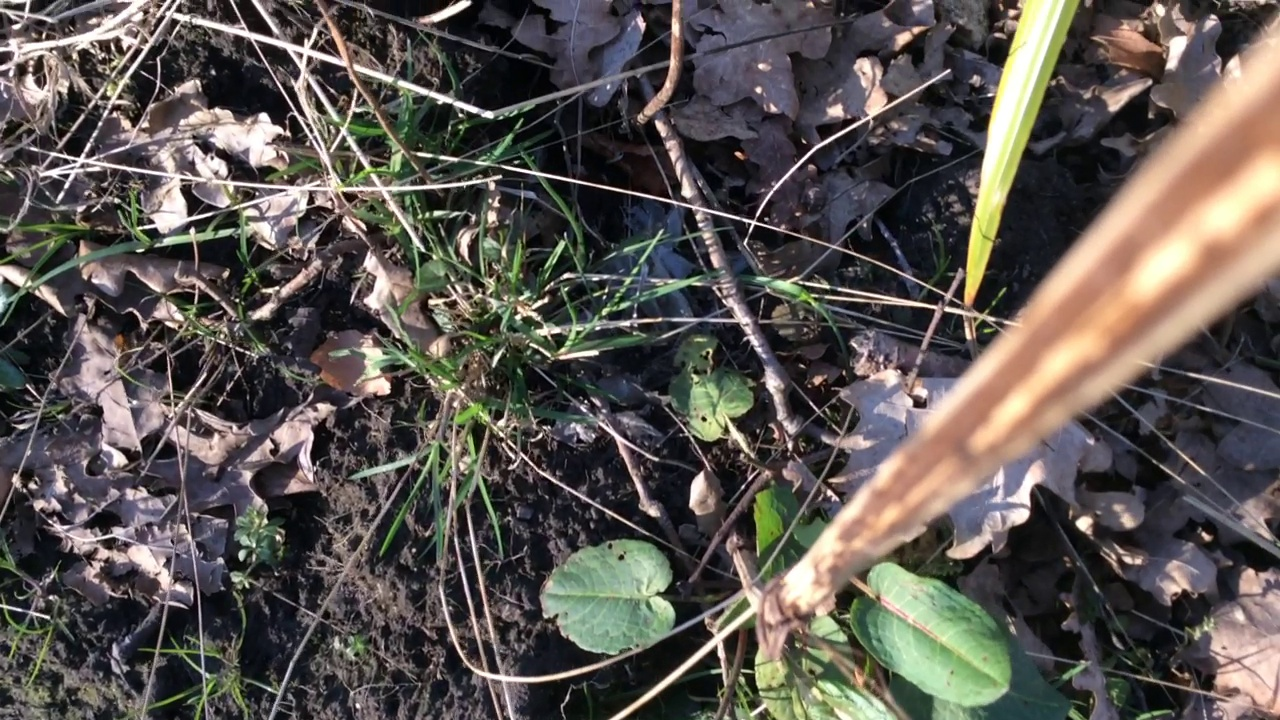rumex: (540, 334, 1074, 720)
